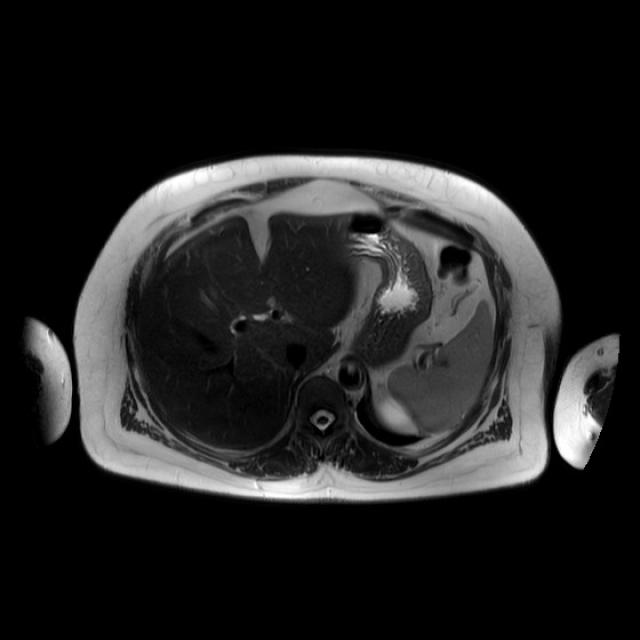sol: (383, 401, 409, 429)
